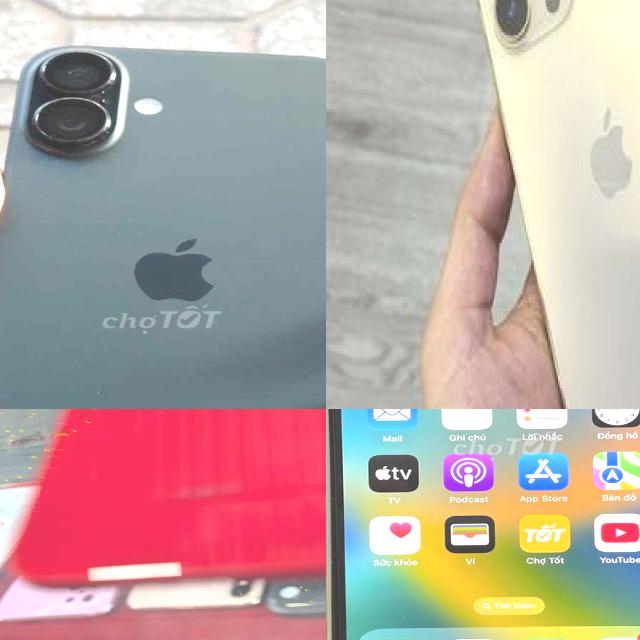gen_11: (12, 409, 326, 587)
gen_12_13: (462, 0, 640, 409)
gen_16: (0, 29, 326, 409)
gen_x_xs: (326, 409, 640, 640)
